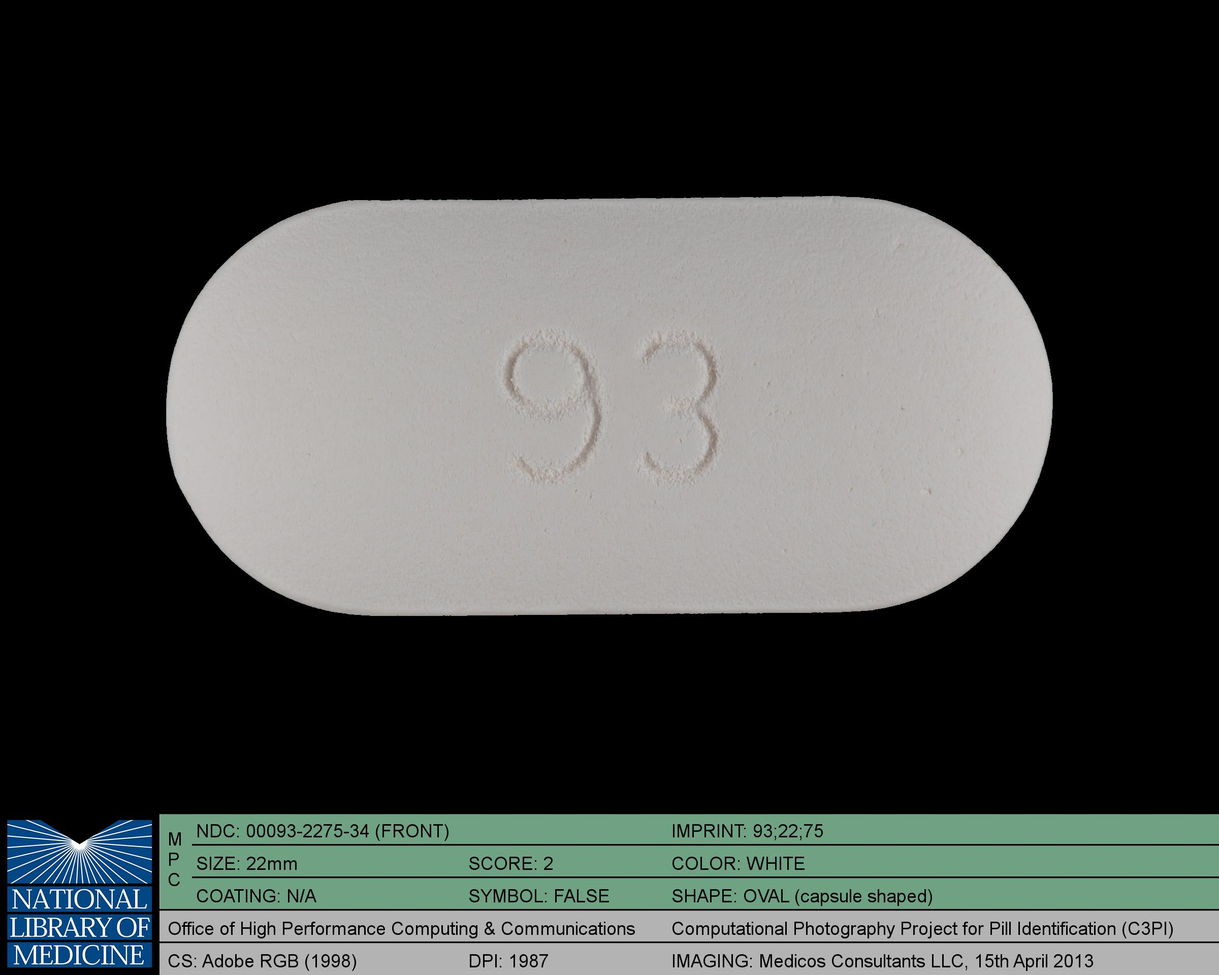Pill: (146, 183, 1070, 623)
